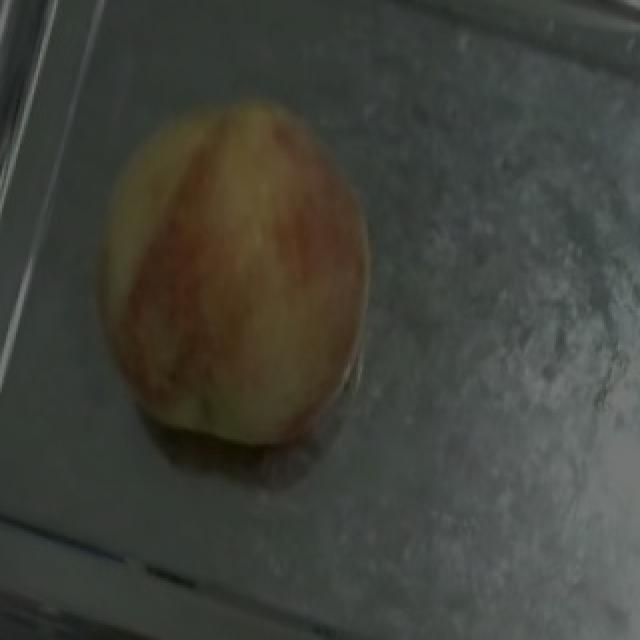Fruit: (68, 50, 416, 397)
